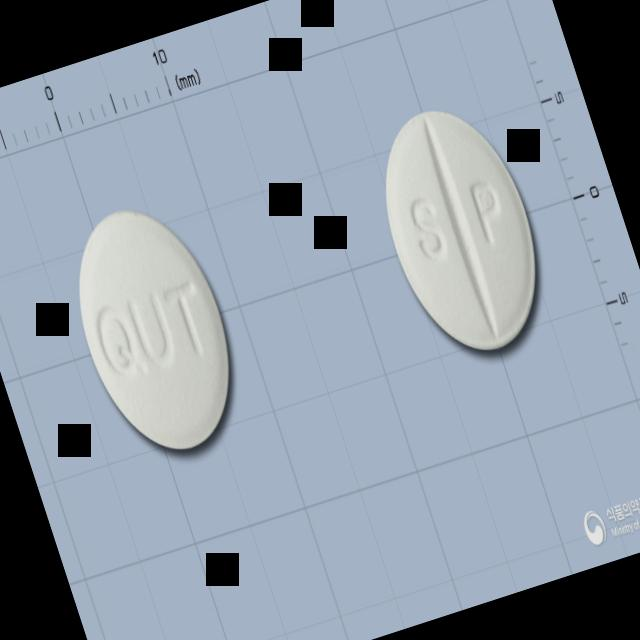Qupron Tab: (357, 90, 566, 373), (51, 189, 260, 470)
